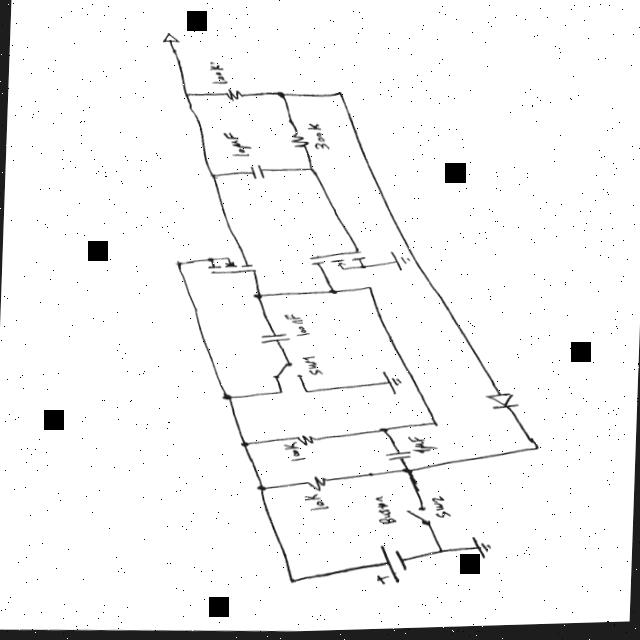capacitor: (260, 333, 290, 345), (247, 165, 267, 180), (385, 452, 411, 463)
diode: (485, 394, 520, 413)
ground: (380, 371, 404, 397), (468, 538, 493, 561), (389, 252, 411, 273)
junction: (434, 549, 447, 557), (400, 468, 413, 475), (255, 485, 267, 492), (377, 428, 389, 435), (252, 293, 263, 300), (286, 578, 297, 585), (275, 92, 287, 98), (221, 395, 233, 401), (327, 289, 338, 295), (239, 442, 250, 448), (530, 447, 541, 453), (208, 173, 218, 179), (430, 422, 440, 428), (275, 390, 284, 396), (302, 390, 311, 395), (306, 167, 315, 172), (174, 261, 182, 266), (182, 92, 190, 97), (335, 93, 344, 97), (365, 287, 373, 291)
resistor: (288, 133, 310, 149), (304, 476, 327, 491), (224, 89, 243, 102), (295, 435, 315, 447)
source: (373, 545, 411, 588)
switch: (404, 506, 432, 528), (271, 362, 304, 380)
terminal: (160, 32, 182, 44)
text: (220, 132, 255, 158), (372, 496, 397, 527), (282, 314, 311, 337), (404, 437, 438, 455), (307, 124, 330, 150), (280, 441, 307, 463), (428, 497, 452, 520), (302, 493, 331, 512), (300, 356, 324, 377), (205, 64, 228, 85)
transistor: (308, 249, 368, 272), (206, 256, 259, 275)
